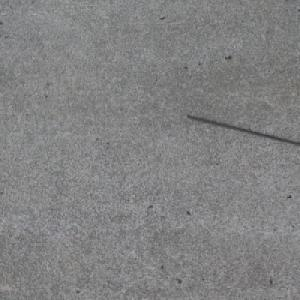LuggagePart: (184, 114, 300, 146)
